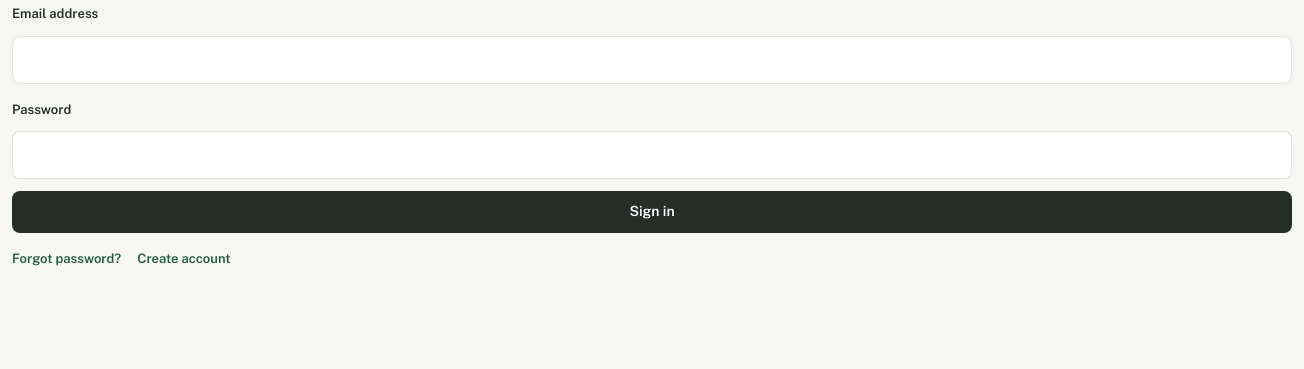
Test: SignInForm › fails closed and clears the local session when audit persistence fails
The image size is (1304, 369).
In the field labelled "Email address": (652, 60) [12,36,1292,84], type "owner@example.test"
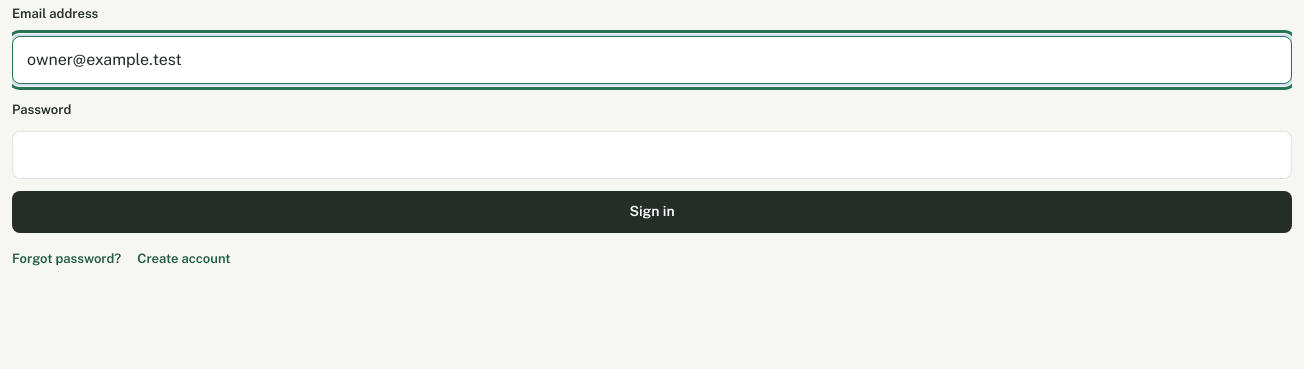
In the password field labelled "Password": (652, 155) [12,131,1292,179], type "synthetic-password"
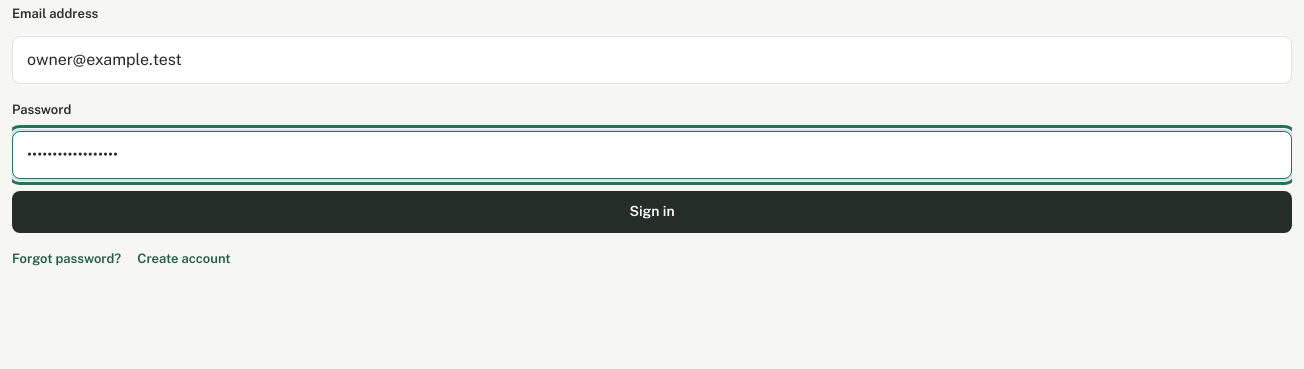
Click the button "Sign in": click(652, 212) [12,191,1292,233]
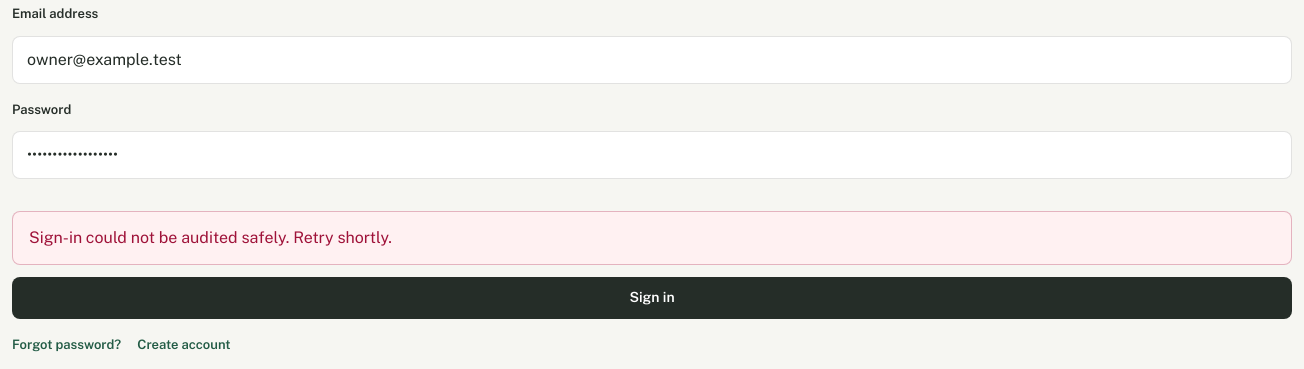
Expected: the message reads "Sign-in could not be audited safely. Retry shortly.", [29,228,392,247]
